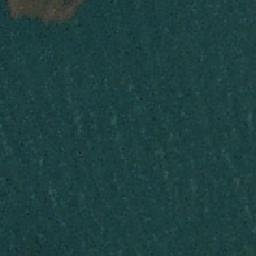debris: (4, 1, 88, 23)
